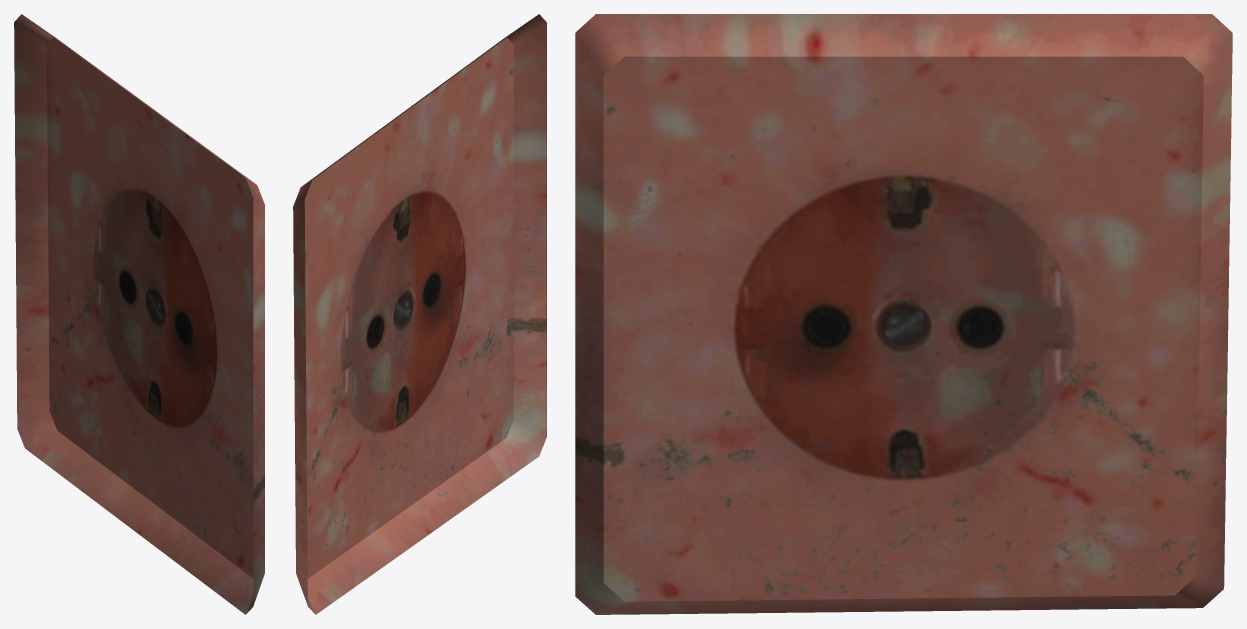
Rendered from Electrical_Socket_07.fbx.
3 views of the same model, side by side, from view 1: azimuth 30°, elevation 25°; view 2: azimuth 150°, elevation 25°; view 3: azimuth 270°, elevation 25° (orthographic). The views are drawn at different scales.
Visible parts, largest first — view 1: Electrical_Socket_07; view 2: Electrical_Socket_07; view 3: Electrical_Socket_07.
Part boxes in pixels (bbox=[...]): Electrical_Socket_07: bbox=[14, 14, 264, 614]; Electrical_Socket_07: bbox=[293, 14, 546, 614]; Electrical_Socket_07: bbox=[575, 14, 1232, 614].
Size of the model in its own units: 0.6482 by 12.17 by 12.27.
1 material, 1 textured.
